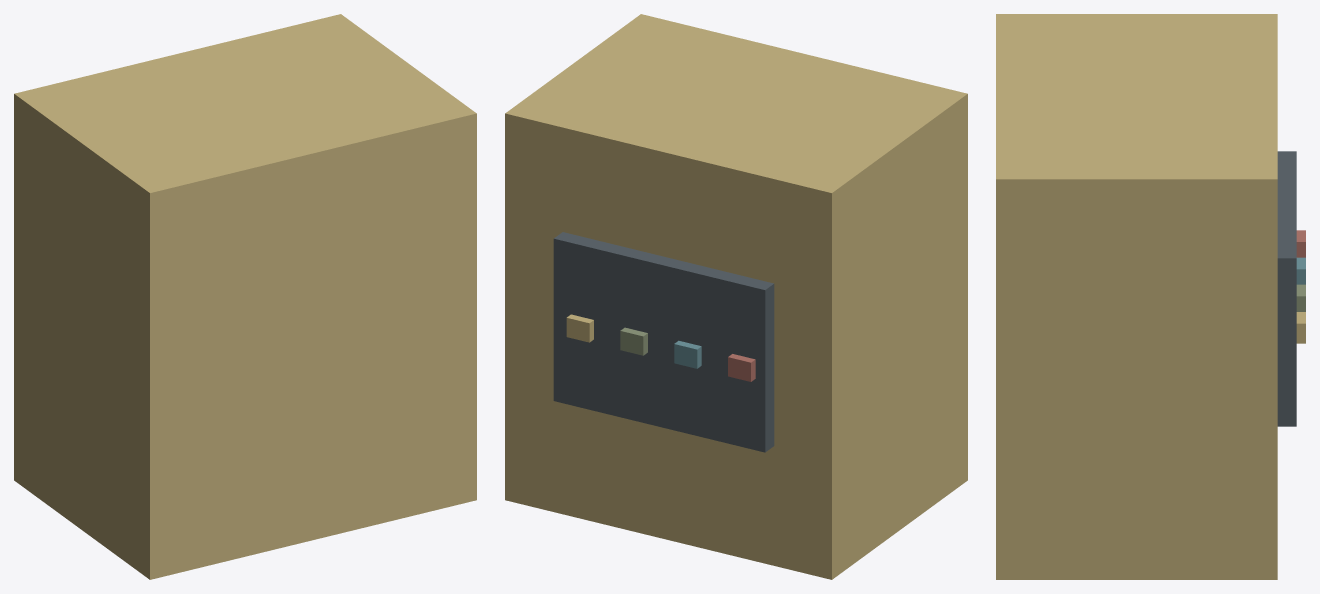
Rendered from iz2_logistics_checkpoint_boom.glb.
The picture shows the model from 3 angles, left to right: view 1: azimuth 30°, elevation 25°; view 2: azimuth 150°, elevation 25°; view 3: azimuth 270°, elevation 25°; orthographic projection. The views are drawn at different scales.
Parts seen in each view (by area): view 1: body; view 2: body; view 3: body.
Boxes of the visible parts, <box> form: body: <box>14,14,476,579</box>; body: <box>505,14,967,579</box>; body: <box>996,14,1305,579</box>.
Bounding box in the file's own units: 0.8621 × 0.975 × 0.6831.
